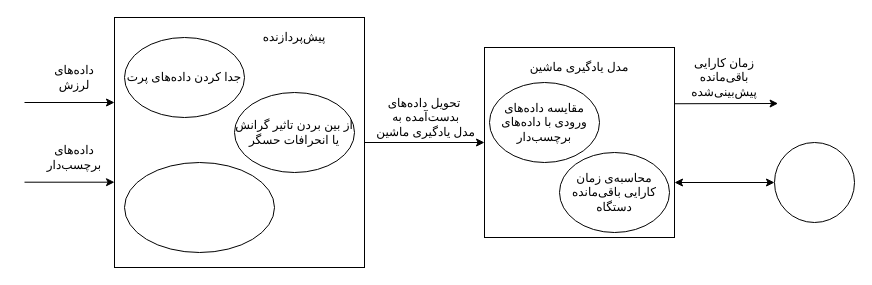
Image size: 872x285. Some labels were removed from this diagram. The centre of each missing label's shape, as x and y in pixels:
"استخراج ویژگی‌های مناسب از داده‌های خام جهت تسهیل عمل تحلیل" goes at (x=199, y=207).
"پایگاه داده‌ی سری زمانی" goes at (x=814, y=182).
